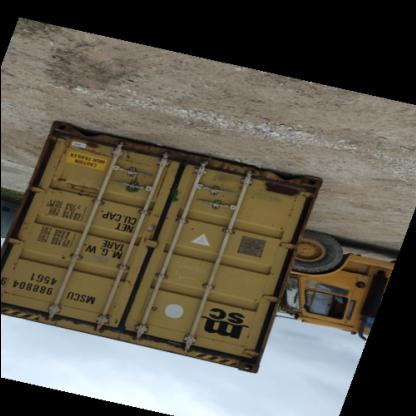Damage: (51, 170, 99, 206), (121, 148, 146, 198), (260, 178, 308, 202), (202, 344, 257, 360), (72, 139, 105, 158), (53, 256, 75, 283), (144, 301, 158, 321)
